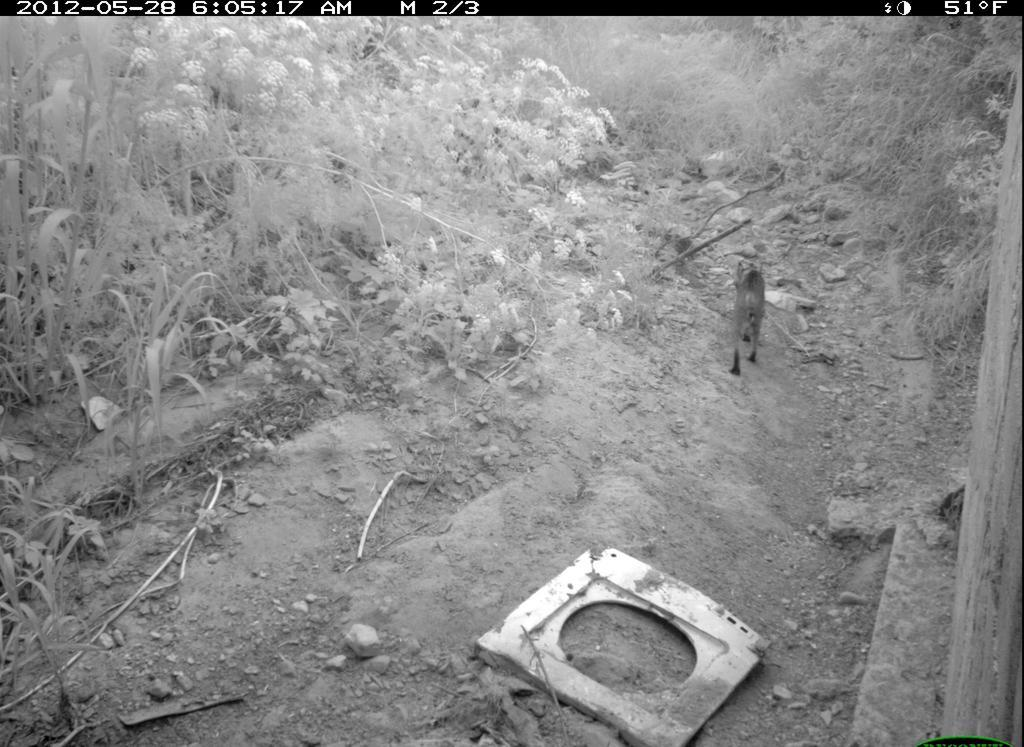bobcat: (719, 246, 771, 388)
